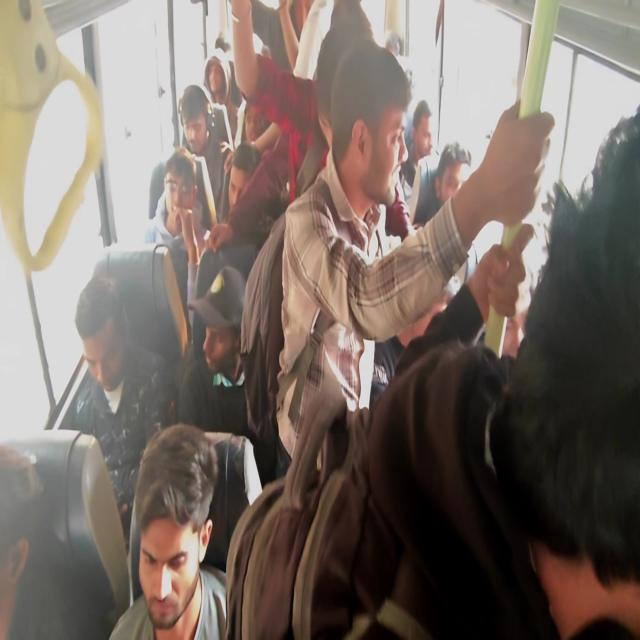person: (274, 32, 555, 482), (488, 106, 639, 638), (358, 338, 557, 638), (60, 273, 174, 545), (108, 422, 228, 639), (177, 264, 252, 438), (145, 147, 209, 326), (0, 443, 43, 638), (178, 83, 232, 223), (409, 140, 471, 230), (398, 99, 433, 205), (203, 51, 240, 144)
